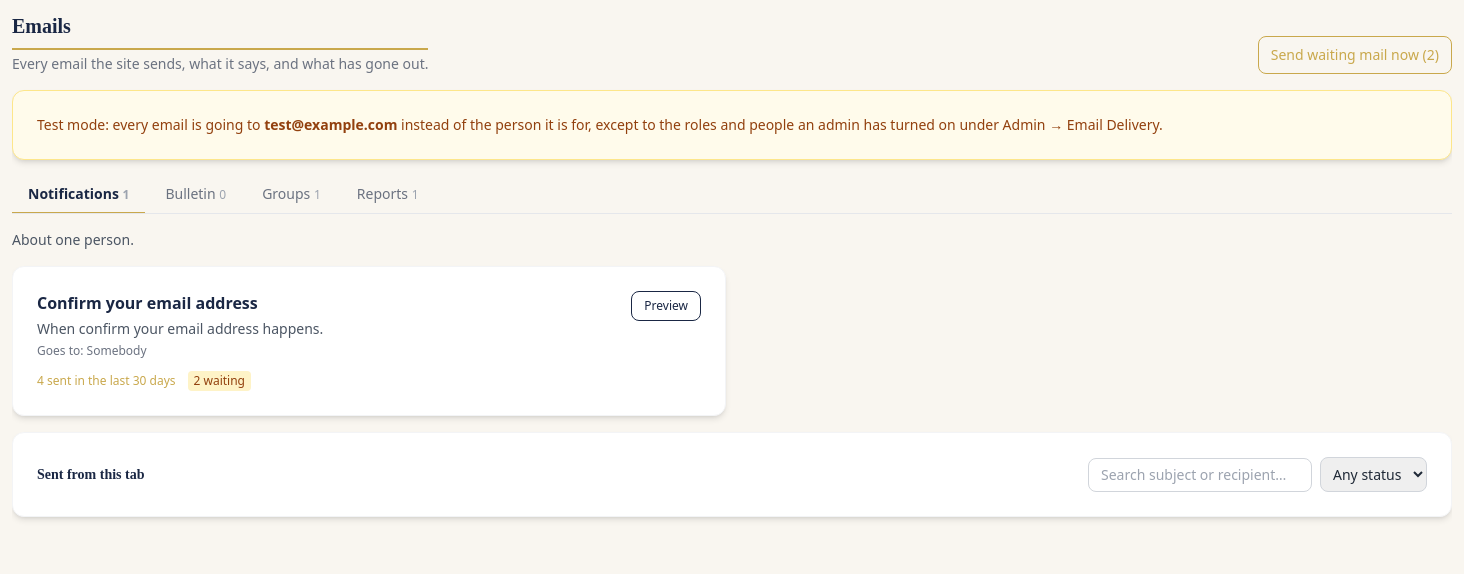
Test case: EmailsView › switching tabs shows that tab’s emails, and an empty tab says so
Click the tab "Groups 1": {"x": 291, "y": 195} [246, 176, 337, 214]
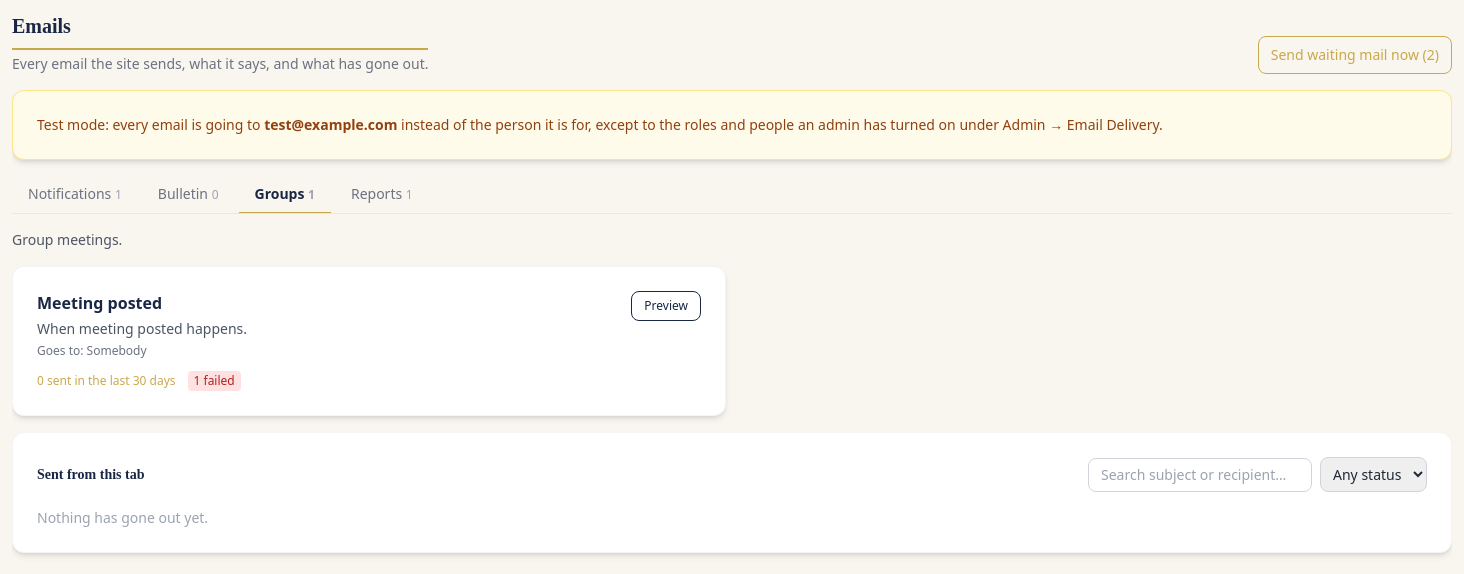
Result: the heading "Meeting posted" is shown at [37, 292, 162, 314]
Result: the text "1 failed" is shown at [188, 371, 241, 391]
Click the tab "Bulletin 0": {"x": 188, "y": 195} [142, 176, 234, 214]
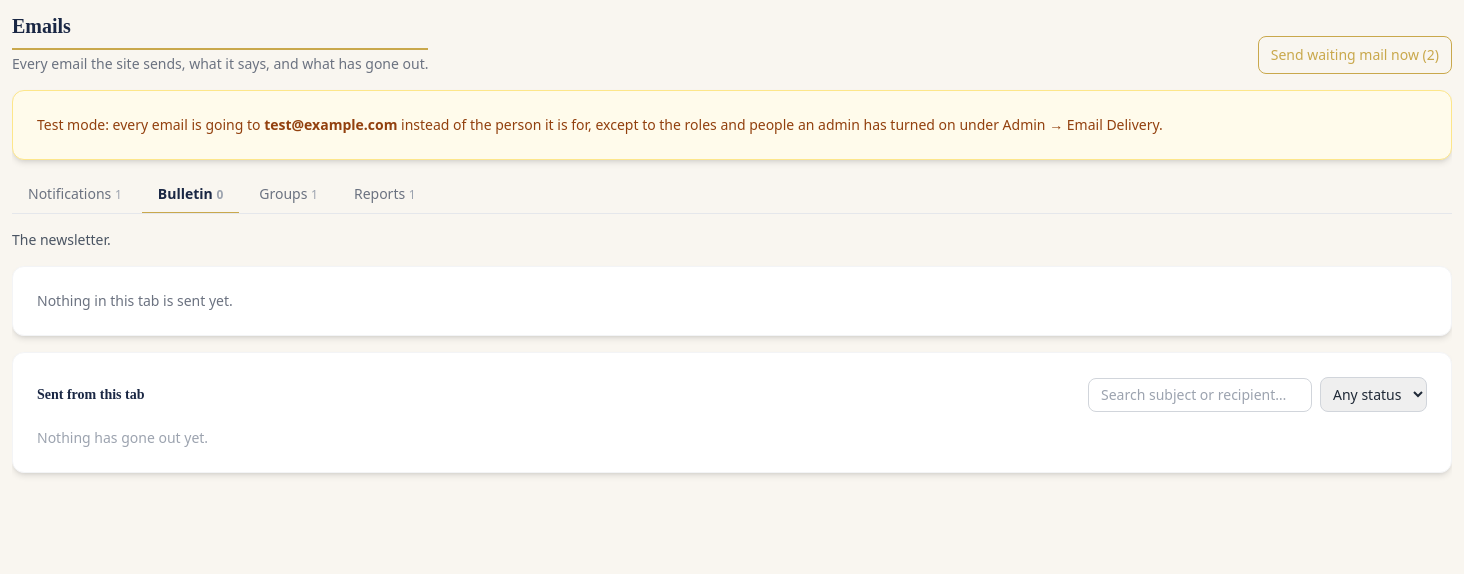
Result: the text "Nothing in this tab is sent yet." is shown at [12, 266, 1452, 336]
